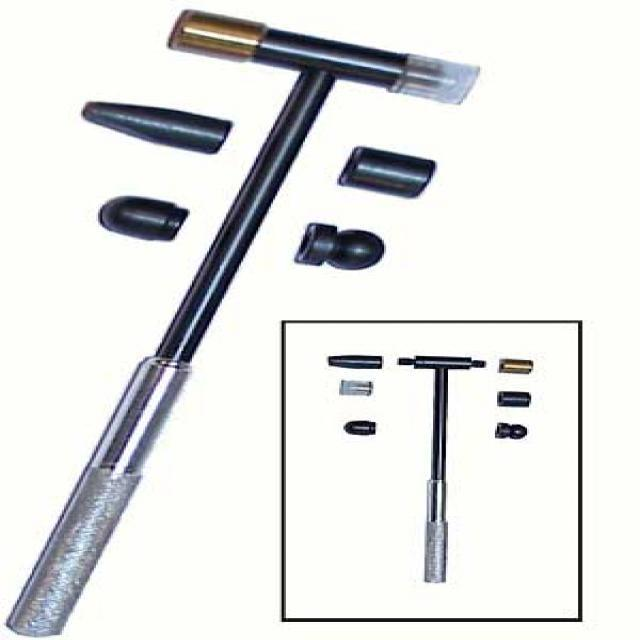hammer: (2, 3, 489, 640)
